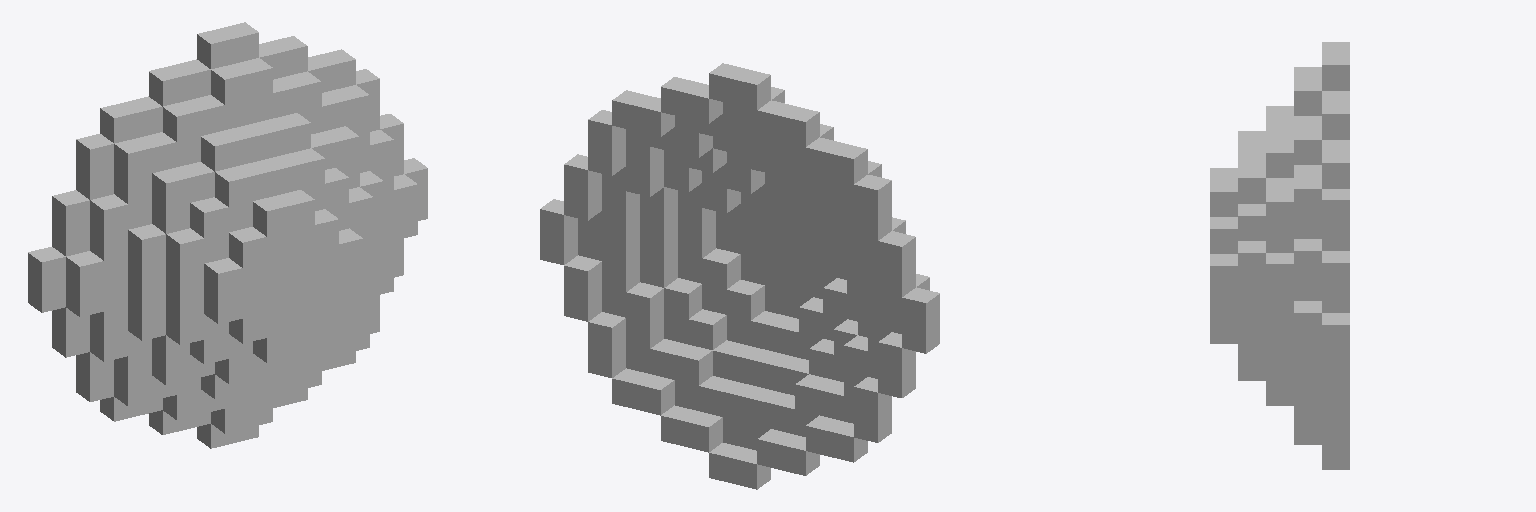
File: st_bowl_inv.obj
3 renders of one model, left to right at view 1: azimuth 30°, elevation 25°; view 2: azimuth 150°, elevation 25°; view 3: azimuth 270°, elevation 25°, orthographic.
Size of the model in its own units: 16 by 16 by 5.